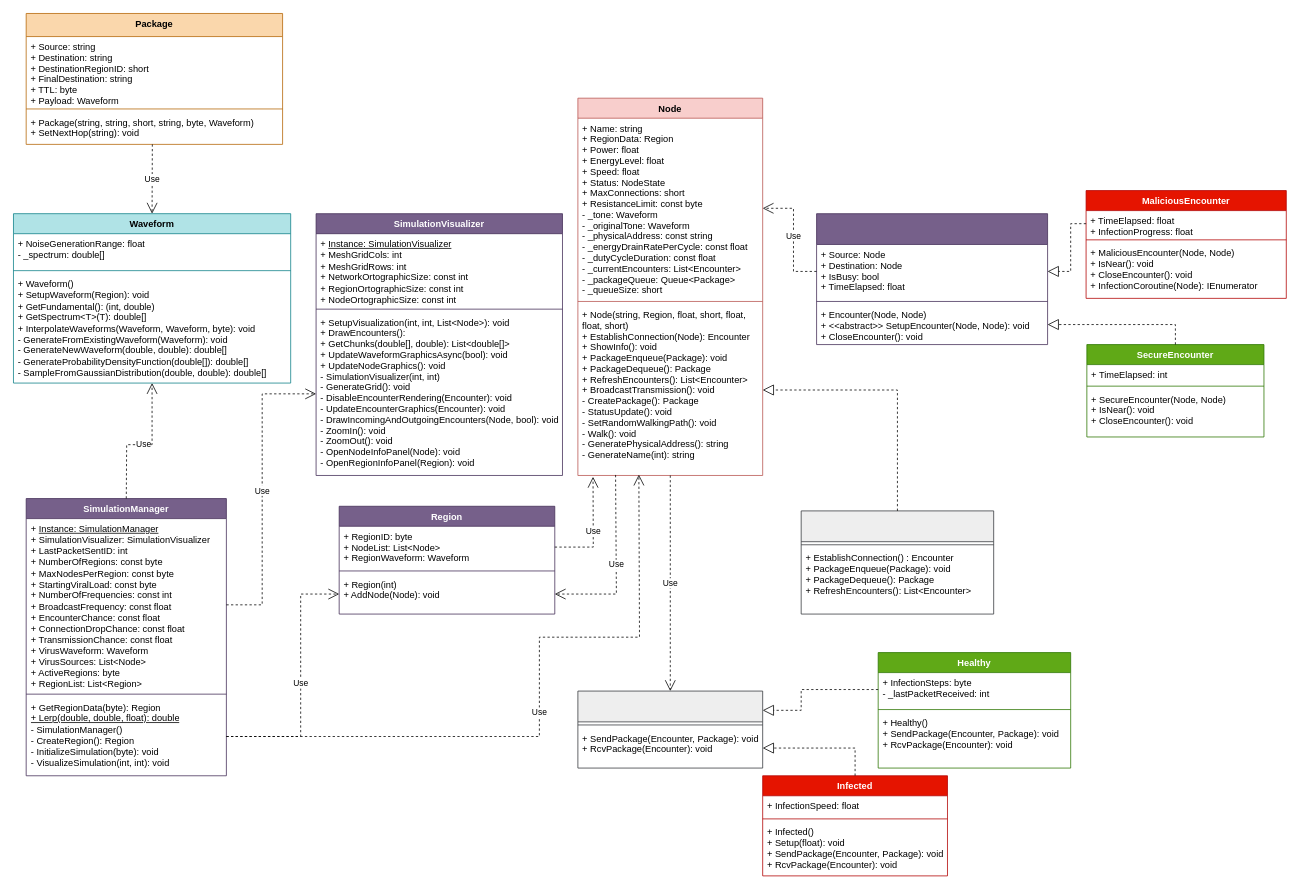
The diagram is 1300 pixels wide and 892 high, and some of its shapes have lost their labels. The box of each missing label's shape, as (x1, y1, x2, y2) in pixels:
<<abstract>> Encounter: (816, 213, 1048, 345)
<<interface>> INode: (800, 510, 994, 614)
<<interface>> INodeState: (577, 690, 763, 768)
